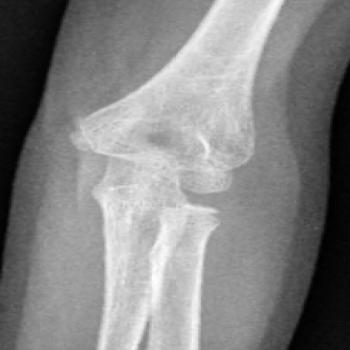Fracture: (170, 172, 239, 220)
